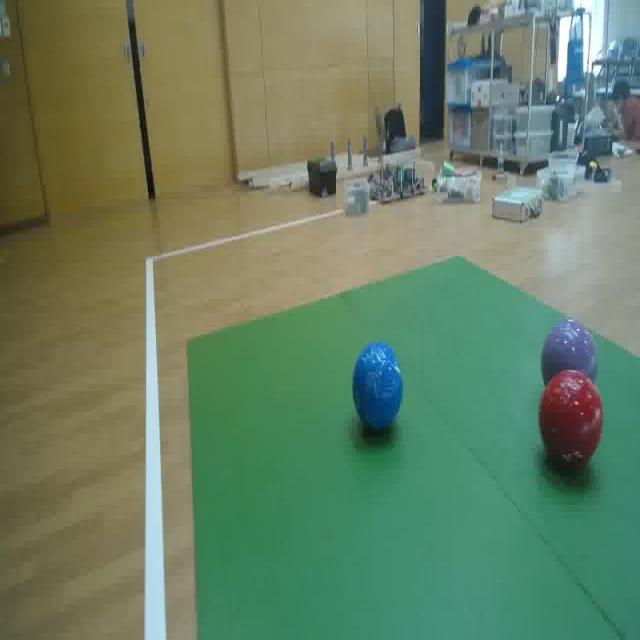blue_ball: (350, 331, 407, 439)
purple_ball: (546, 307, 605, 390)
red_ball: (536, 366, 604, 477)
